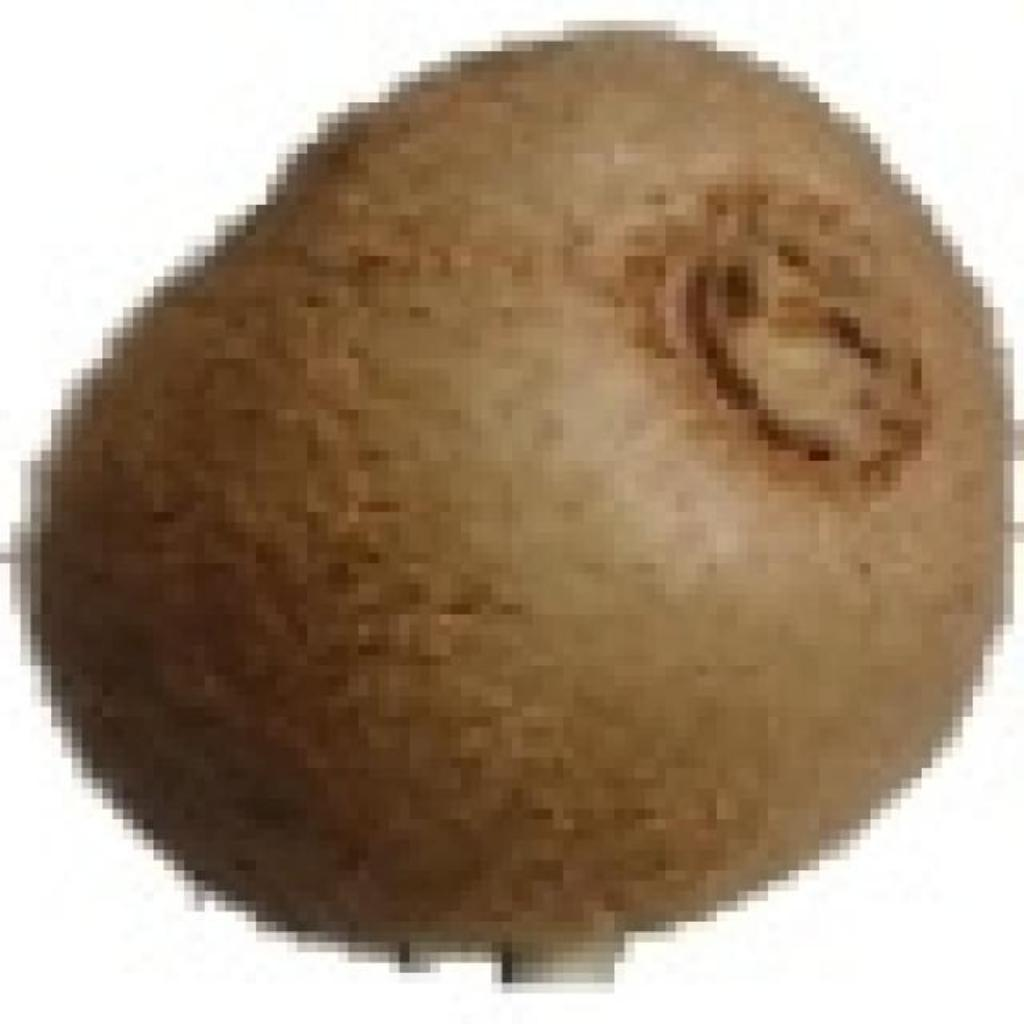kiwi: (41, 20, 1024, 963), (20, 901, 195, 1004)
